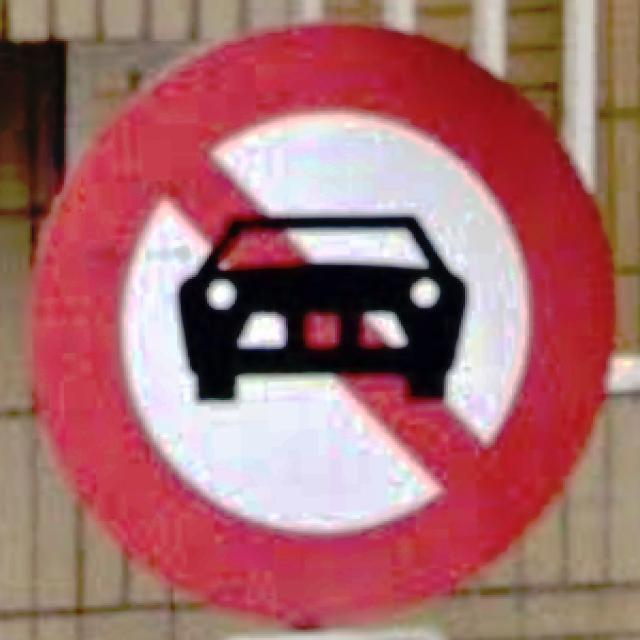nocar: (30, 23, 612, 626)
